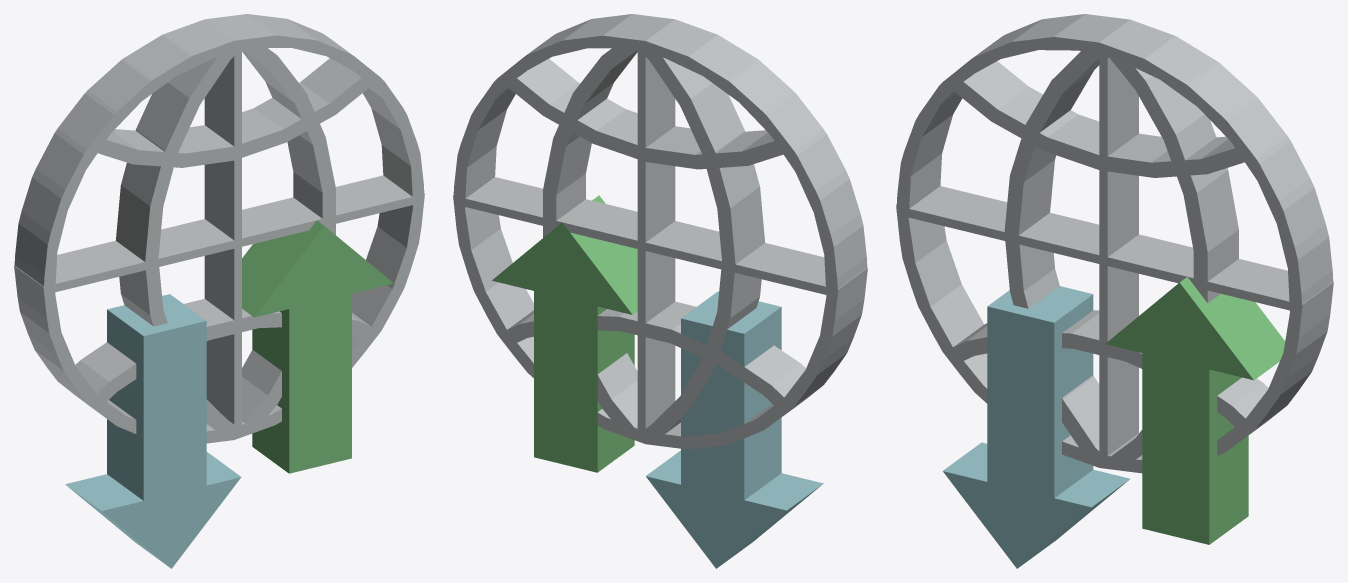
The model's file is accessInternet-grey.glb.
The picture shows the model from 3 angles, left to right: view 1: azimuth 30°, elevation 25°; view 2: azimuth 150°, elevation 25°; view 3: azimuth 330°, elevation 25°; orthographic projection. The views are drawn at different scales.
Parts seen in each view (by area): view 1: Mesh_Mesh_head_geo.001_lambert2SG.001; view 2: Mesh_Mesh_head_geo.001_lambert2SG.001; view 3: Mesh_Mesh_head_geo.001_lambert2SG.001.
Part boxes in pixels (left/top/right/bottom): Mesh_Mesh_head_geo.001_lambert2SG.001: left=14, top=14, right=424, bottom=568; Mesh_Mesh_head_geo.001_lambert2SG.001: left=453, top=14, right=867, bottom=568; Mesh_Mesh_head_geo.001_lambert2SG.001: left=896, top=14, right=1333, bottom=568.
Size of the model in its own units: 30 by 38 by 5.
